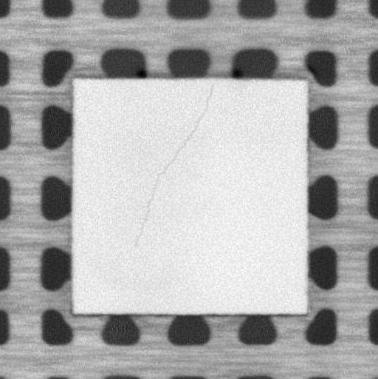DIE_CRACK: (132, 84, 213, 249)
